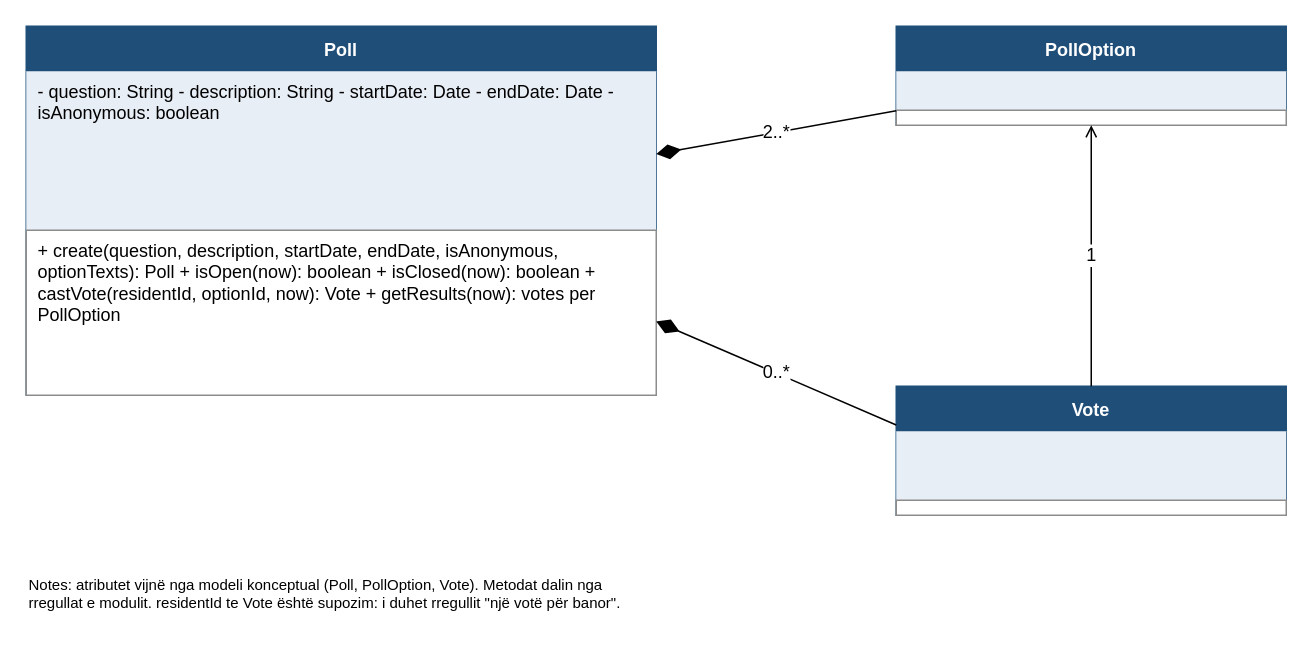
Image size: 1313x668. Some labels were removed from this diagram. The shapes that lost their labels are listed below. From the top down, each one's centre as x and y in pixels, then its label:
point 1091,90: - text: String
point 1091,465: - votedAt: DateTime - residentId: Id
